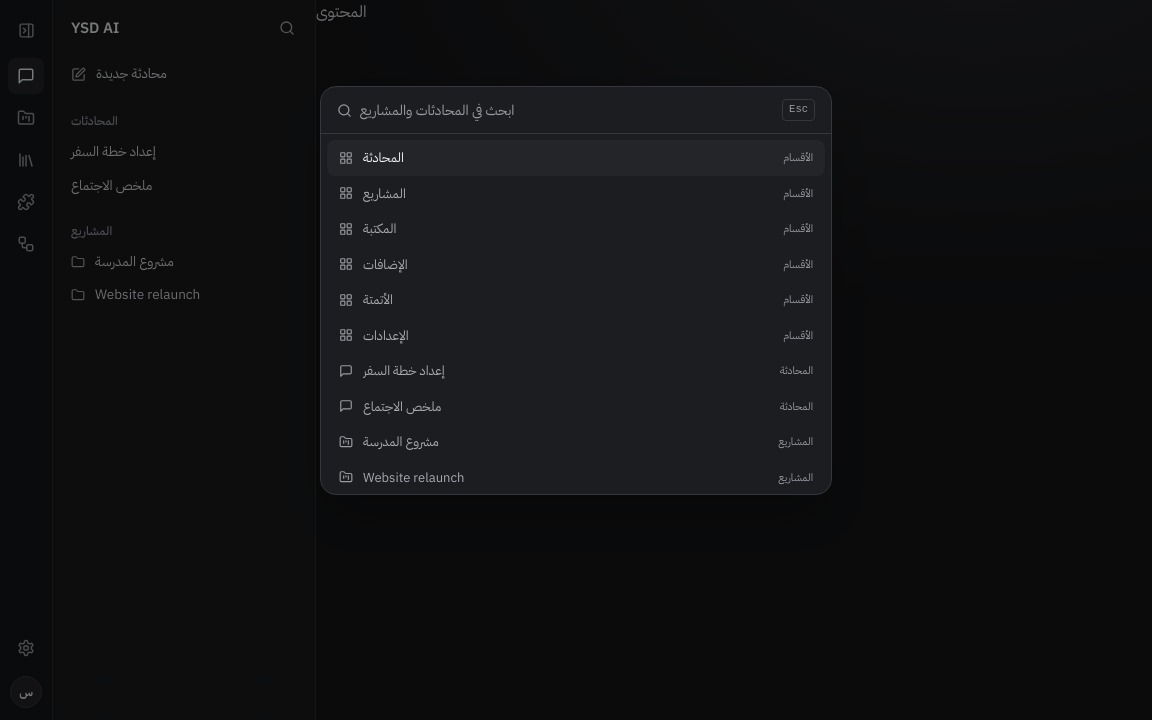
Test case: البحث السريع › Ctrl+K يفتحه، والكتابة ترشّح، وEnter يفتح النتيجة المختارة
Type "ملخص" into the dropdown at (567, 110), box [360,100,774,121]
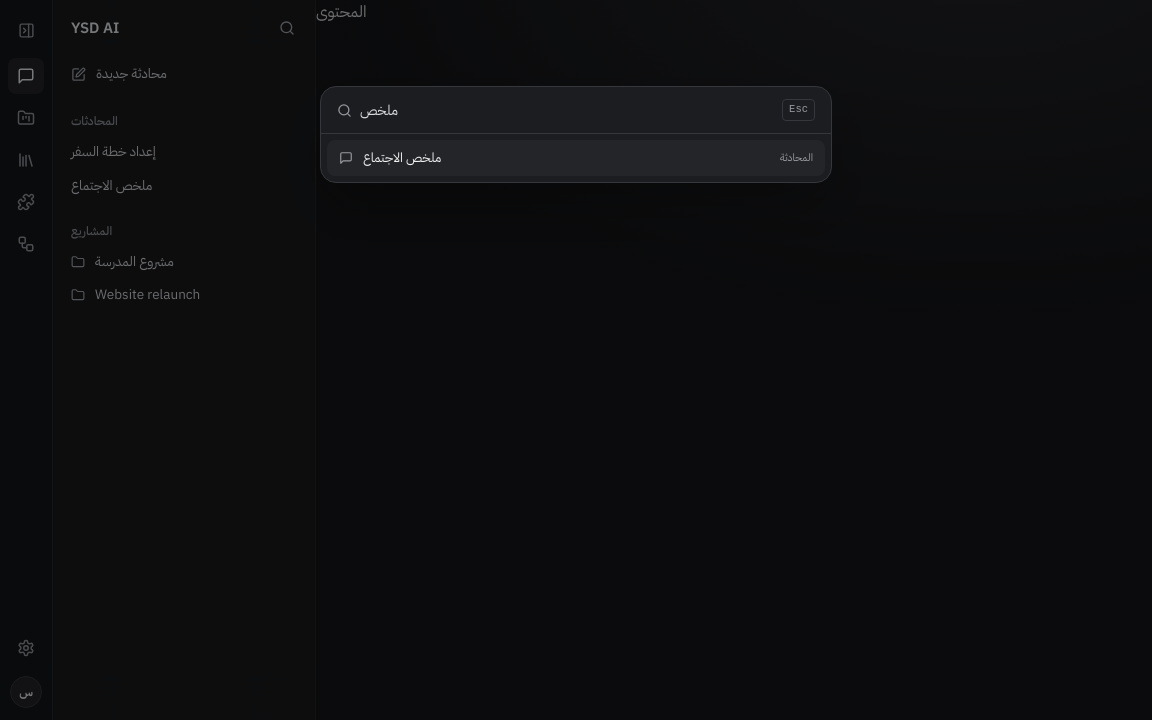
Press Enter in the dropdown, box [360,100,774,121]
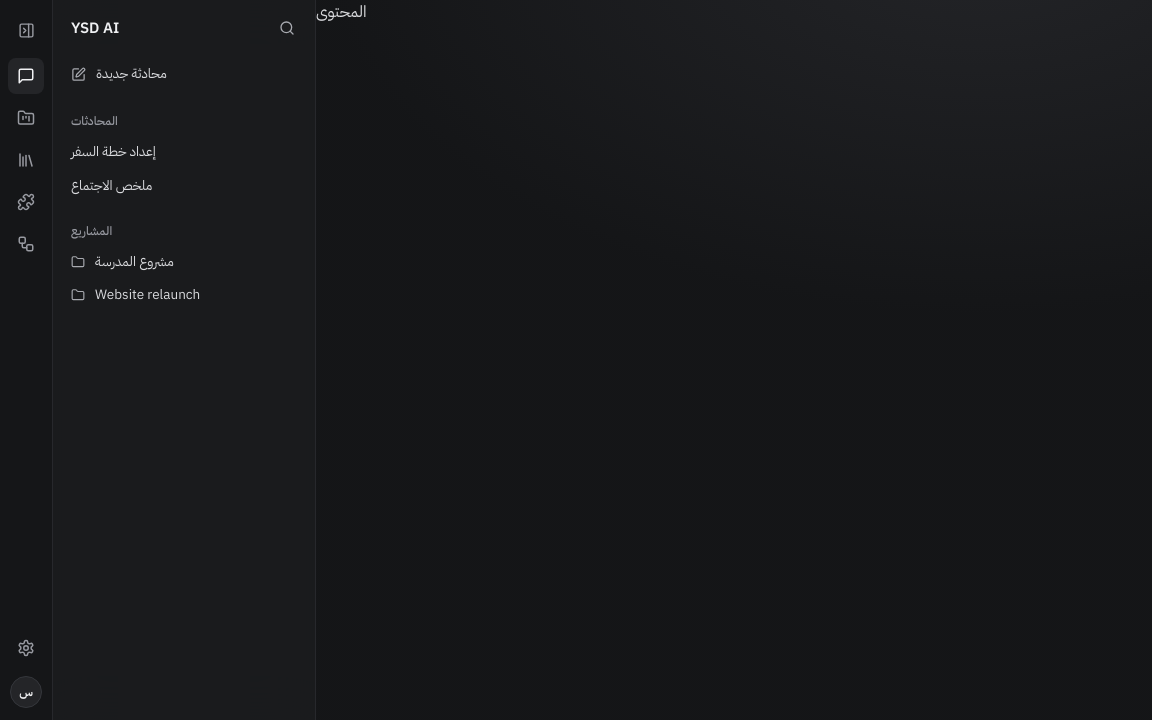
Result: the dialog is gone
